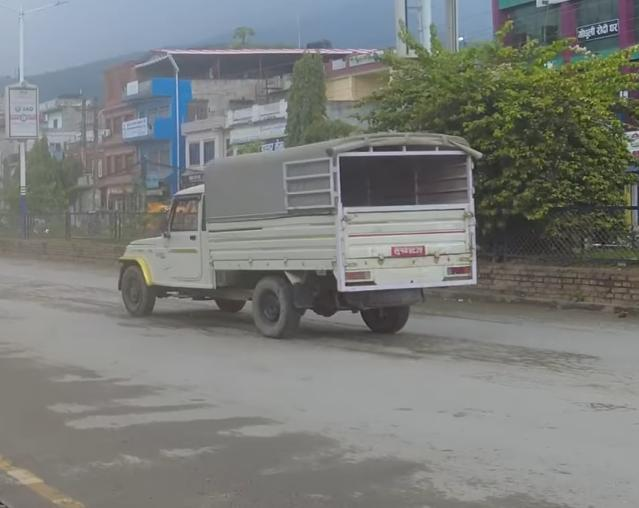transport_vehicle: (102, 119, 486, 346)
